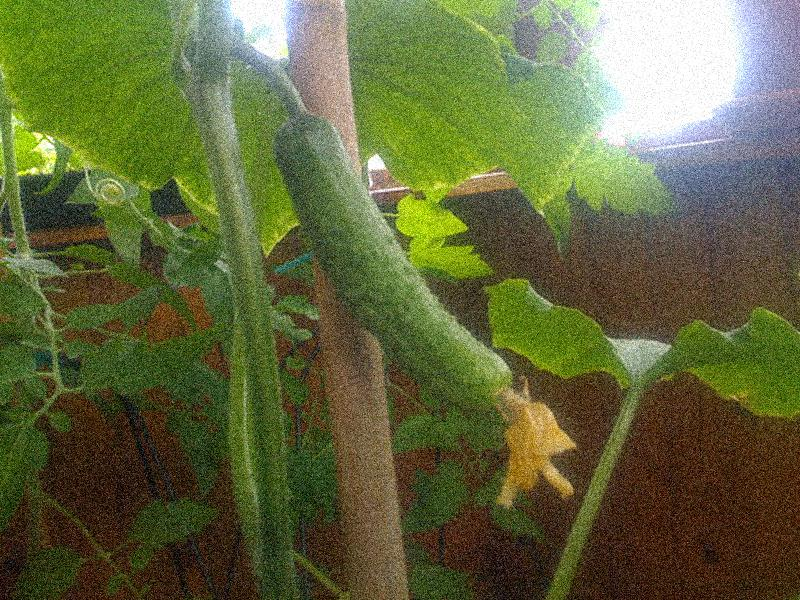Cucumber: (275, 115, 579, 509)
